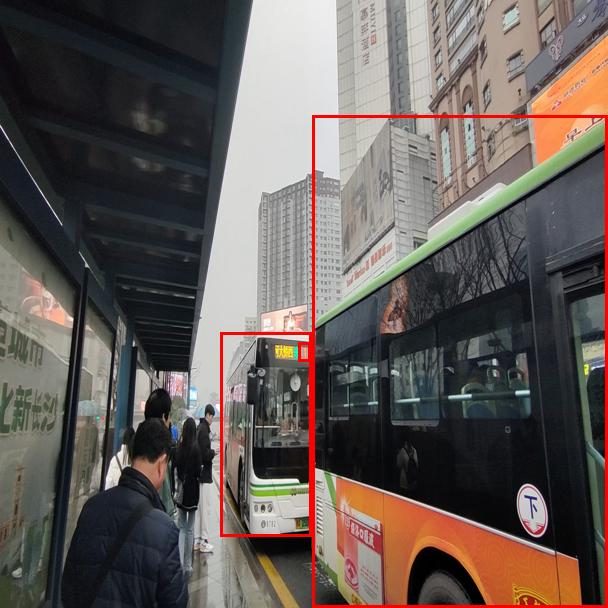bus: (312, 115, 607, 607), (220, 332, 311, 536)
screen: (298, 342, 310, 361)
